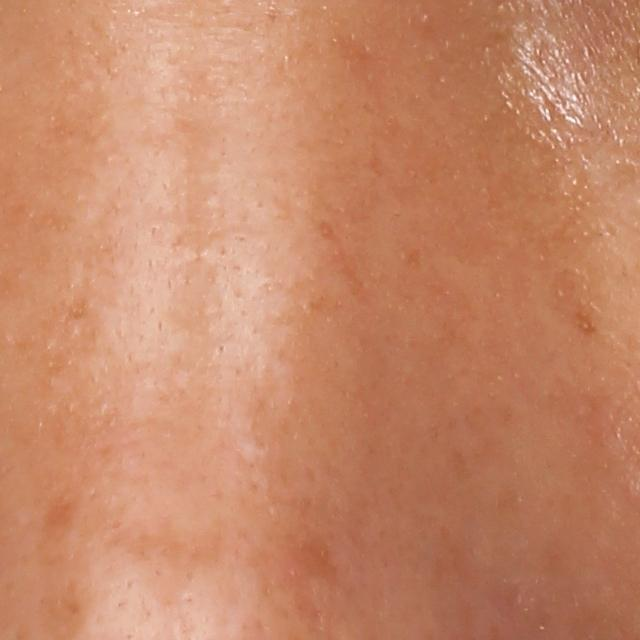melasma: (122, 517, 236, 581), (314, 215, 378, 306), (543, 261, 603, 340), (274, 521, 344, 585), (33, 489, 84, 555)
